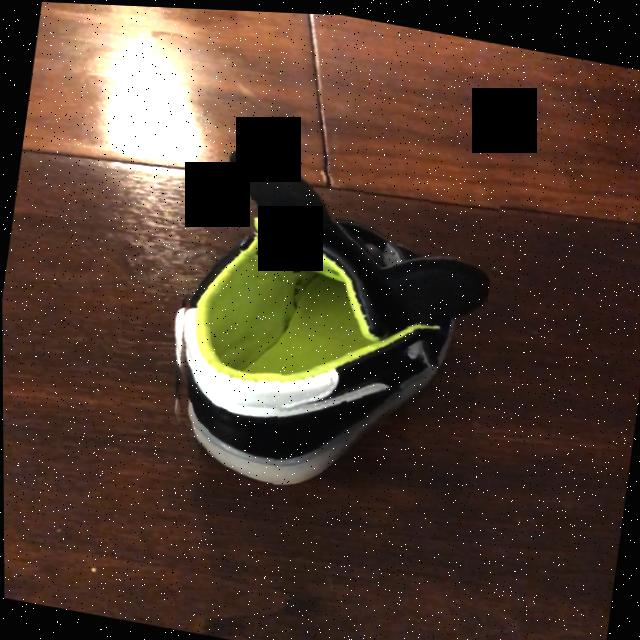shoe: (181, 148, 490, 484)
